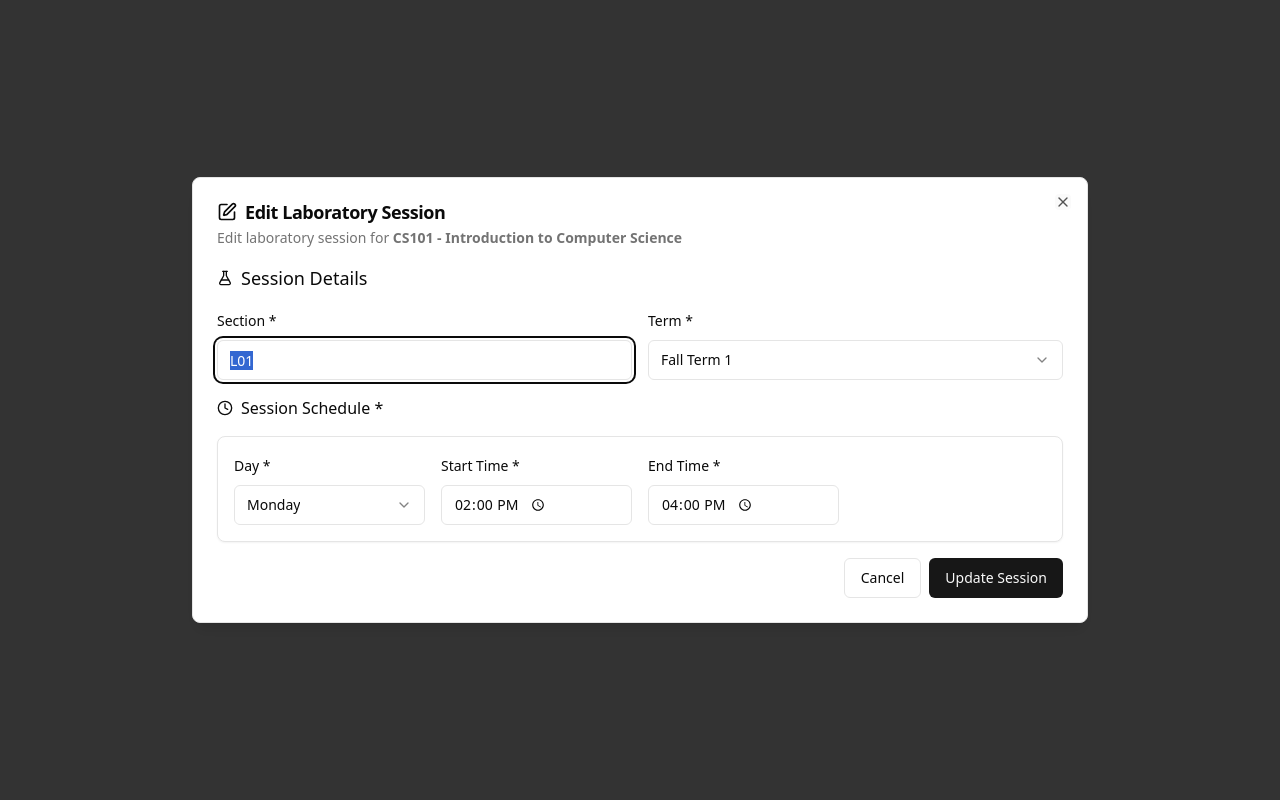
Test case: EditSessionModal › validates end time is after start time
# Set end time before start time
Replace the text in the time field showing "16:00" below "End Time *" with "13:00" at [744, 505], box [648, 485, 839, 525]
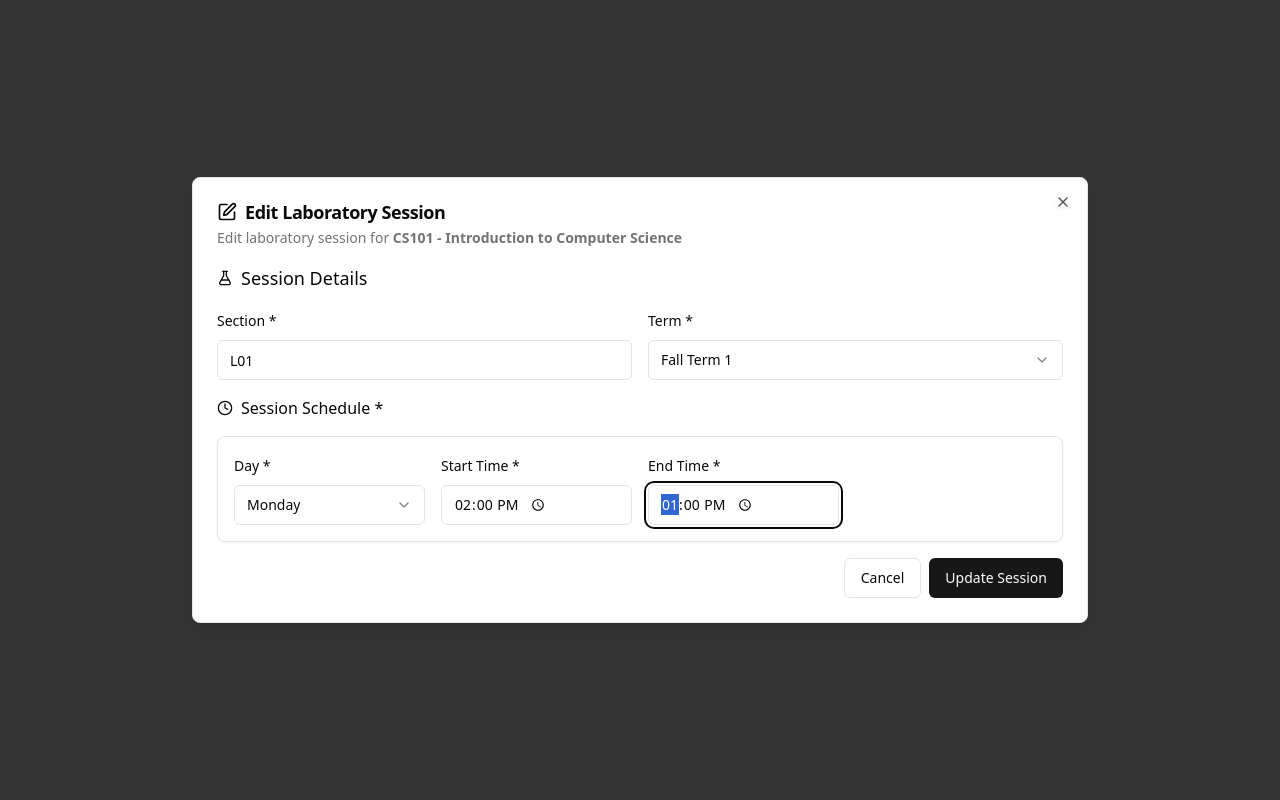
Click the button "Update Session" at [996, 578], box [929, 558, 1063, 598]
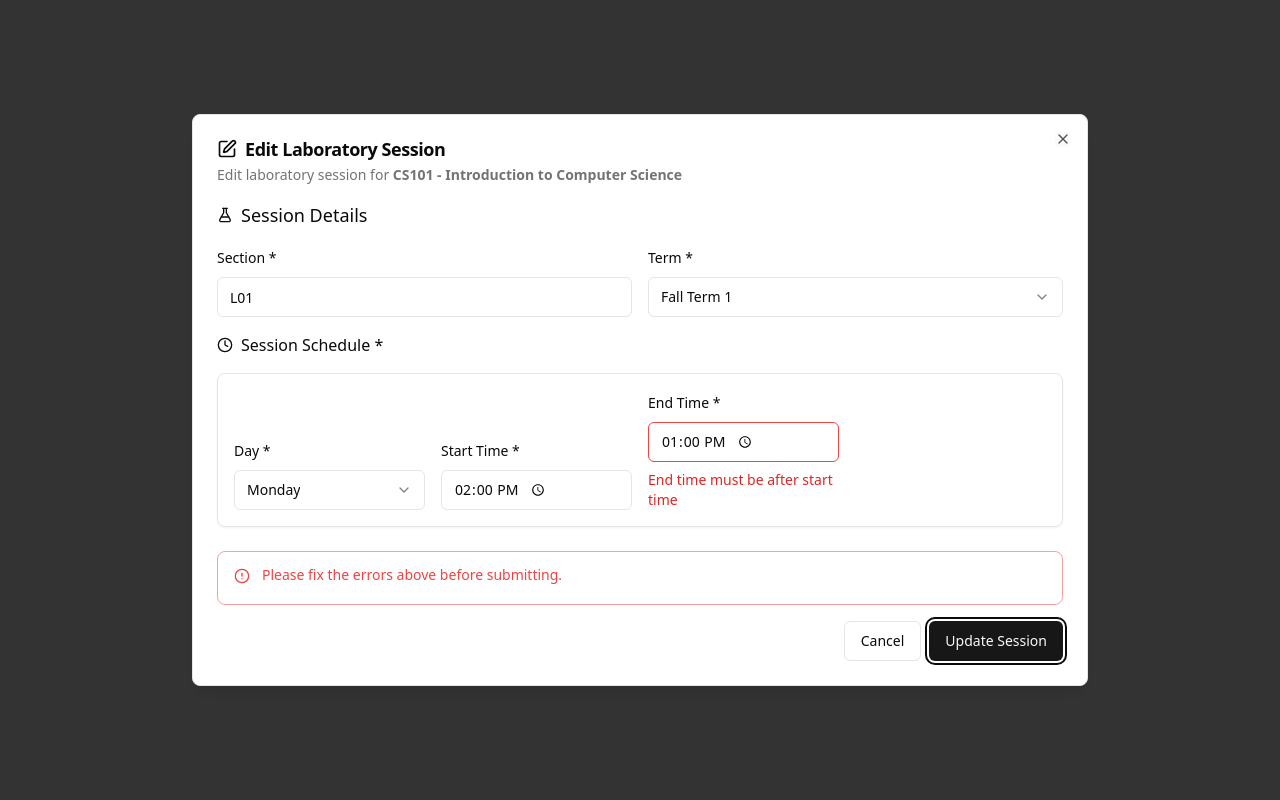
Check: the text "End time must be after start time" is shown, box [648, 470, 839, 510]
